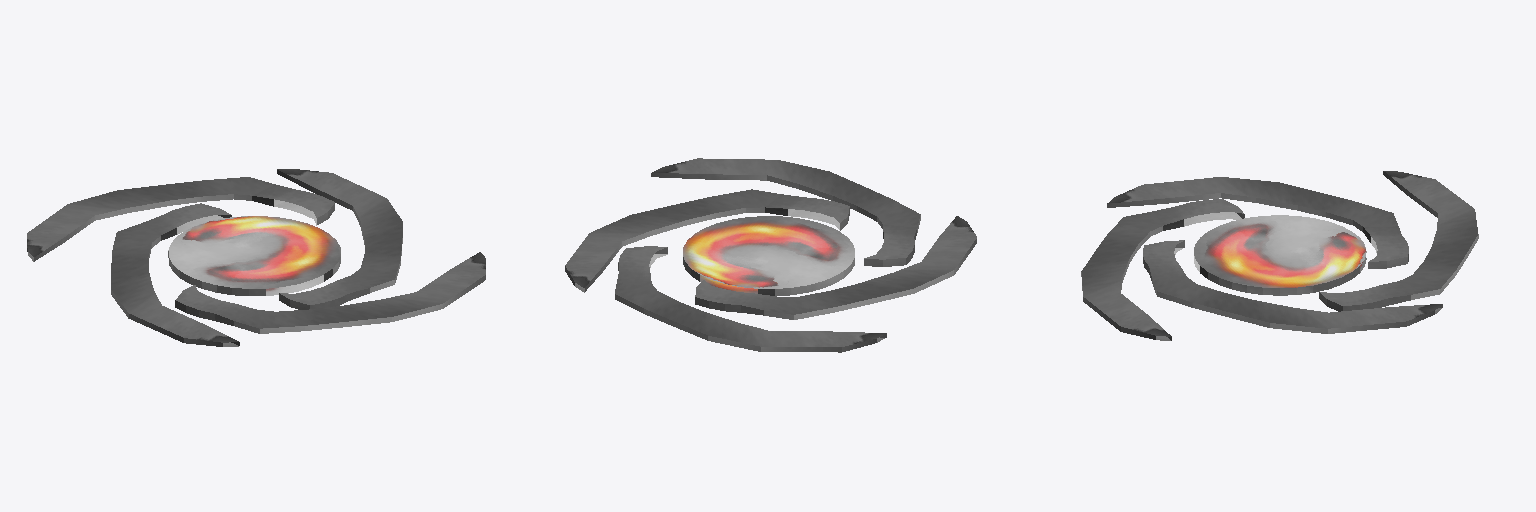
3 views of the same model, side by side, from view 1: azimuth 30°, elevation 25°; view 2: azimuth 150°, elevation 25°; view 3: azimuth 270°, elevation 25° (orthographic).
Visible parts, largest first — view 1: galaxy_Circle; view 2: galaxy_Circle; view 3: galaxy_Circle.
Part boxes in pixels (x1,y1,x2,y2): galaxy_Circle: (27,169,485,346); galaxy_Circle: (565,158,976,352); galaxy_Circle: (1081,171,1478,340).
Bounding box in the file's own units: 4.54 × 0.095 × 4.58.
Materials: 1 (1 with a texture image).